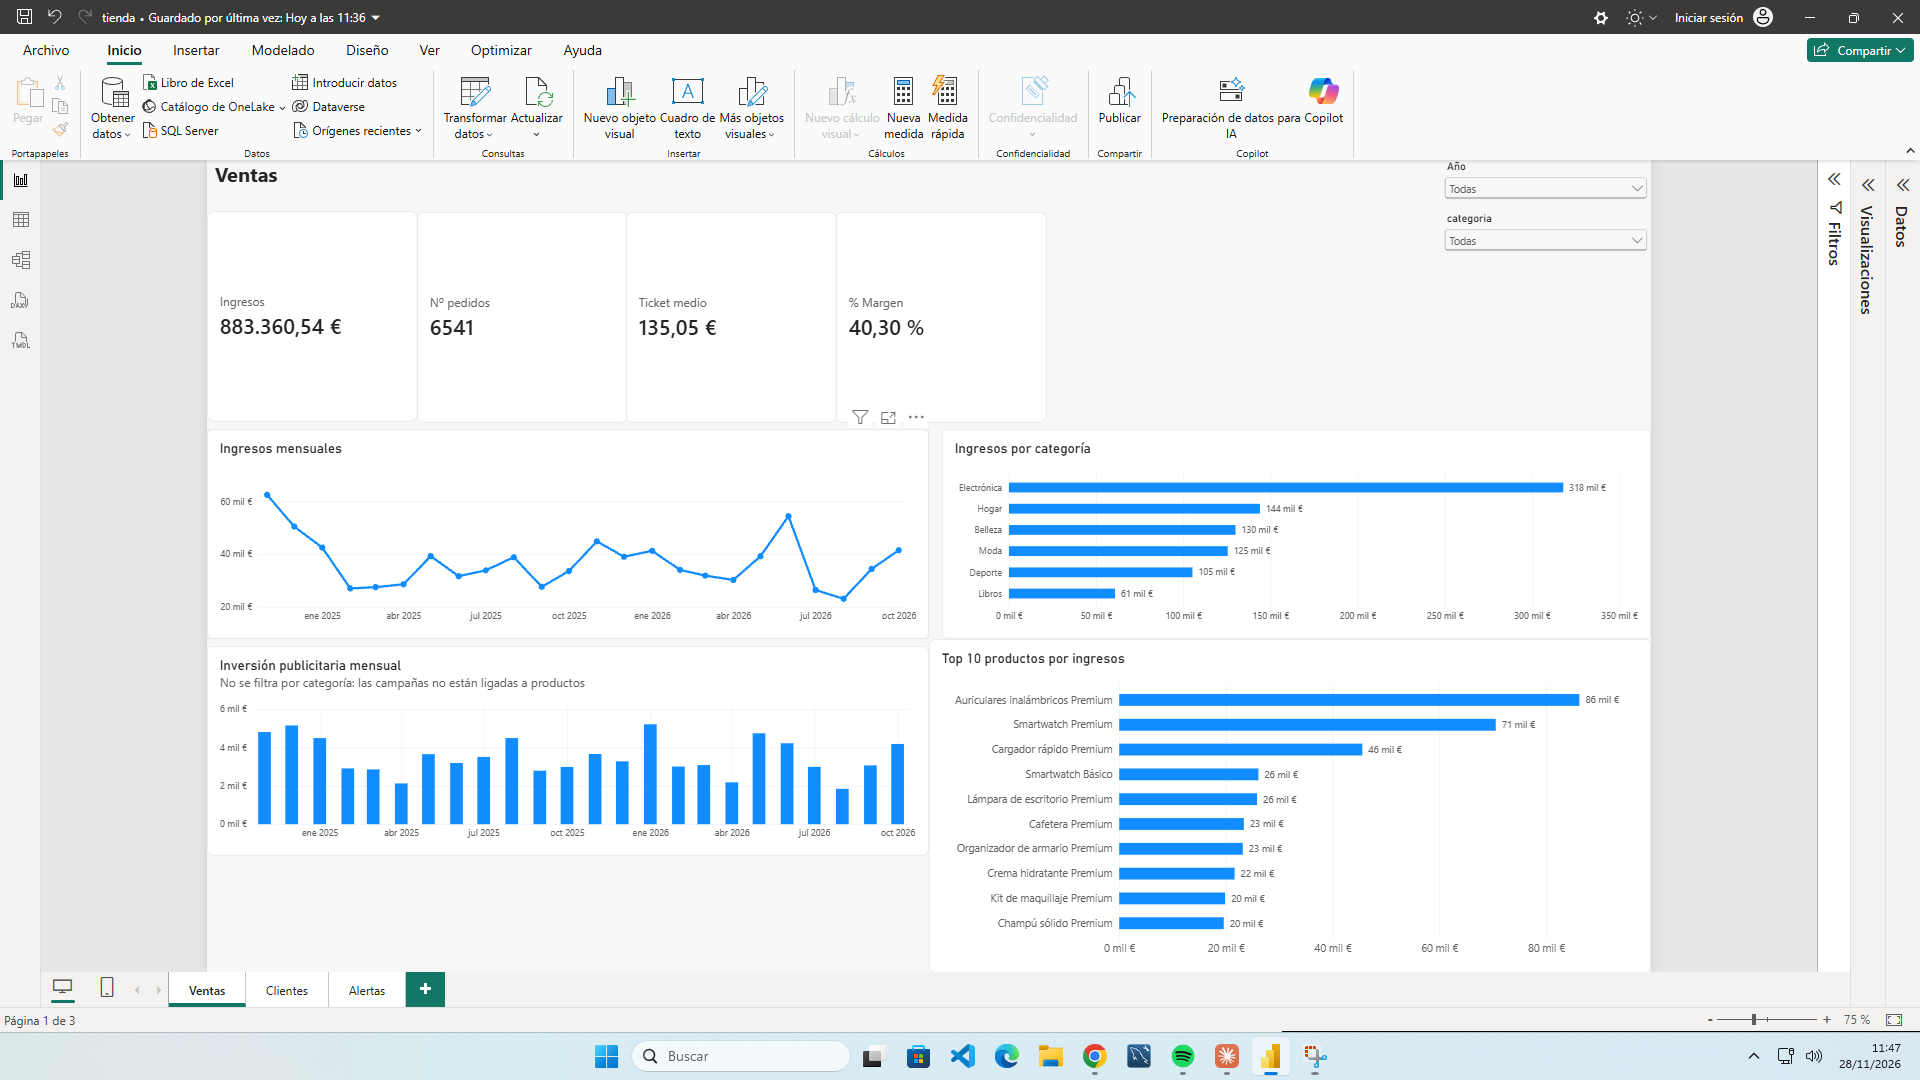

What the dashboard file says about the page in this screenshot:
{"tool":"powerbi","page":{"name":"Ventas","canvas":[1920,1080],"ordinal":0},"visuals":[{"type":"textbox","box":[10.1,0,269.1,67.6],"z":0},{"type":"slicer","fields":{"Values":["dim_fecha.anio"]},"box":[1641,0,279,69.1],"z":1},{"type":"slicer","fields":{"Values":["dim_producto.categoria"]},"box":[1641.3,68.8,278.7,72.3],"z":2},{"type":"cardVisual","fields":{"Data":["_Medidas.Ingresos"]},"box":[0,68.2,280,280],"z":3},{"type":"cardVisual","fields":{"Data":["_Medidas.Nº pedidos"]},"box":[278.7,68.8,280,280],"z":4},{"type":"cardVisual","fields":{"Data":["_Medidas.Ticket medio"]},"box":[557.4,68.8,280,280],"z":5},{"type":"cardVisual","fields":{"Data":["_Medidas.% Margen"]},"box":[836.1,68.8,280,280],"z":6},{"type":"lineChart","title":"Ingresos mensuales","fields":{"Category":["dim_fecha.anio_mes"],"Y":["_Medidas.Ingresos"]},"box":[0,357.8,960,278.7],"z":7},{"type":"clusteredBarChart","title":"Ingresos por categoría ","fields":{"Category":["dim_producto.categoria"],"Y":["_Medidas.Ingresos"]},"box":[977.2,357.8,942.8,278.7],"z":8},{"type":"clusteredColumnChart","title":"Inversión publicitaria mensual","fields":{"Category":["dim_fecha.anio_mes"],"Y":["_Medidas.Inversión publicitaria"]},"box":[0,647,960,279],"z":9},{"type":"clusteredBarChart","title":"Top 10 productos por ingresos","fields":{"Category":["dim_producto.nombre_producto"],"Y":["_Medidas.Ingresos"]},"box":[960,636.6,960,443.9],"z":10}]}

Visuals, with their boxes on the page's 1920x1080 design canvas (x1, y1, x2, y2). These are canvas units, not pixel positions in the 1920x1080 screenshot, which may show the page scaled, cropped or inside an application window:
textbox: 10,0,279,68
slicer - dim_fecha.anio: 1641,0,1920,69
slicer - dim_producto.categoria: 1641,69,1920,141
cardVisual - _Medidas.Ingresos: 0,68,280,348
cardVisual - _Medidas.Nº pedidos: 279,69,559,349
cardVisual - _Medidas.Ticket medio: 557,69,837,349
cardVisual - _Medidas.% Margen: 836,69,1116,349
"Ingresos mensuales" lineChart: 0,358,960,636
"Ingresos por categoría " clusteredBarChart: 977,358,1920,636
"Inversión publicitaria mensual" clusteredColumnChart: 0,647,960,926
"Top 10 productos por ingresos" clusteredBarChart: 960,637,1920,1080
